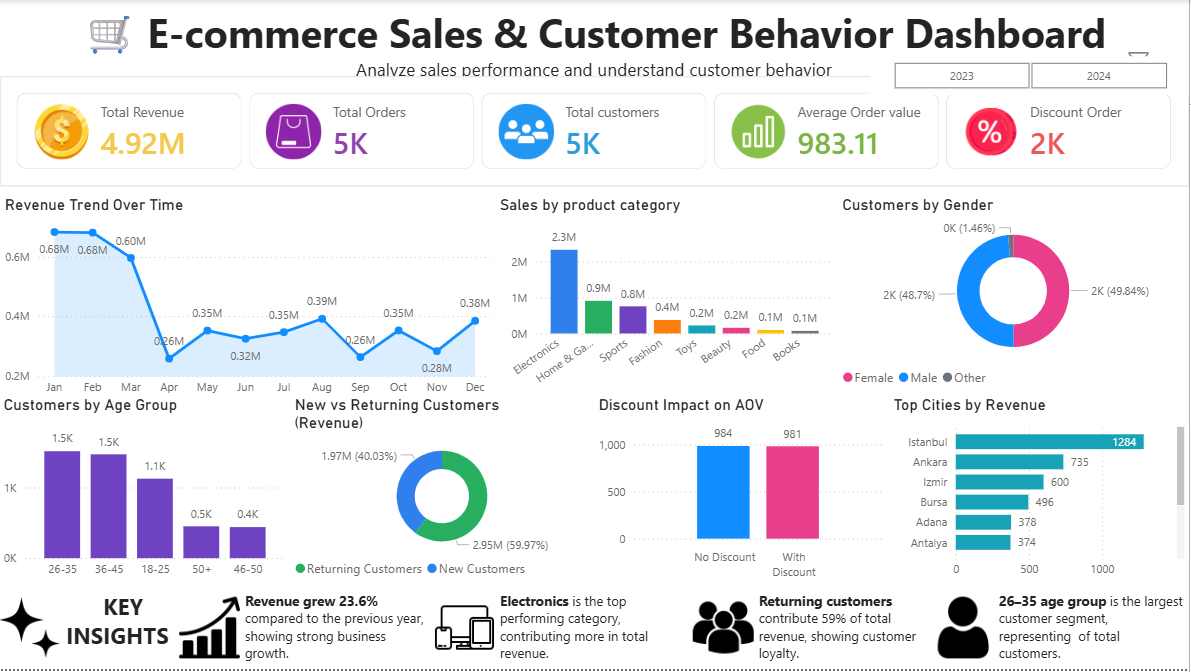

The page's visual inventory and layout, read from the dashboard file:
{"tool":"powerbi","page":{"name":"Page 1","canvas":[1280,720],"ordinal":0},"visuals":[{"type":"textbox","box":[0,0,1280.3,91.9],"z":0},{"type":"cardVisual","fields":{"Data":["Ecommerce KPIs.Total Revenue","Ecommerce KPIs.Total Orders","Ecommerce KPIs.Total customers","Ecommerce KPIs.Average Order value","Ecommerce KPIs.Orders with Discount"]},"box":[1.3,82,1278.9,118.3],"z":1000},{"type":"lineChart","title":"Revenue Trend Over Time","fields":{"Y":["Ecommerce KPIs.Total Revenue"],"Category":["ecommerce_customer_behavior_dataset.Month"]},"box":[1.3,209.8,532.6,224.6],"z":2000},{"type":"clusteredColumnChart","title":"Sales by product category","fields":{"Category":["ecommerce_customer_behavior_dataset.Product_Category"],"Y":["Ecommerce KPIs.Total Revenue"]},"box":[533.9,209.8,368.5,215.2],"z":3000},{"type":"donutChart","title":"Customers by Gender","fields":{"Series":["ecommerce_customer_behavior_dataset.Gender"],"Y":["Ecommerce KPIs.Total customers"]},"box":[902.4,209.8,377.9,215.2],"z":4000},{"type":"clusteredBarChart","title":"Top Cities by Revenue","fields":{"Category":["ecommerce_customer_behavior_dataset.City"],"Y":["Ecommerce KPIs.Total customers"]},"box":[957.5,425,322.8,205.8],"z":5000},{"type":"columnChart","title":"Discount Impact on AOV","fields":{"Y":["Ecommerce KPIs.Average Order value"],"Category":["ecommerce_customer_behavior_dataset.Discount Category"]},"box":[640.1,425,317.4,205.8],"z":6000},{"type":"donutChart","title":"New vs Returning Customers (Revenue)","fields":{"Y":["Ecommerce KPIs.Total Revenue"],"Category":["ecommerce_customer_behavior_dataset.Customer Type"]},"box":[313.3,425,326.8,205.8],"z":7000},{"type":"columnChart","title":"Customers by Age Group","fields":{"Y":["Ecommerce KPIs.Total customers"],"Category":["ecommerce_customer_behavior_dataset.Age Group"]},"box":[0,425,313.3,205.8],"z":8000},{"type":"textbox","box":[1.3,630.7,211.1,88.8],"z":9000},{"type":"textbox","box":[67.2,630.7,126.4,88.8],"z":10000},{"type":"image","box":[746.4,630.7,65.9,88.8],"z":11000},{"type":"image","box":[0,630.7,65.9,88.8],"z":12000},{"type":"image","box":[193.7,630.7,65.9,88.8],"z":13000},{"type":"image","box":[468,630.7,65.9,88.8],"z":14000},{"type":"image","box":[1004.6,630.7,65.9,88.8],"z":15000},{"type":"textbox","box":[259.6,630.7,208.4,88.8],"z":15001},{"type":"slicer","fields":{"Values":["ecommerce_customer_behavior_dataset.year"]},"box":[937.3,60.5,342.9,41.7],"z":15002},{"type":"textbox","box":[533.9,630.7,201.7,88.8],"z":15003},{"type":"textbox","box":[812.3,630.7,192.3,88.8],"z":15004},{"type":"textbox","box":[1070.5,630.7,209.8,88.8],"z":15005}]}

Visuals, with their boxes in screenshot pixels (x1, y1, x2, y2), scaled from the page's 1280x720 canvas onto the 1191x672 screenshot:
textbox: (x1=0, y1=0, x2=1190, y2=86)
cardVisual - Ecommerce KPIs.Total Revenue x Ecommerce KPIs.Total Orders: (x1=1, y1=77, x2=1190, y2=187)
"Revenue Trend Over Time" lineChart: (x1=1, y1=196, x2=497, y2=405)
"Sales by product category" clusteredColumnChart: (x1=497, y1=196, x2=840, y2=397)
"Customers by Gender" donutChart: (x1=840, y1=196, x2=1190, y2=397)
"Top Cities by Revenue" clusteredBarChart: (x1=891, y1=397, x2=1190, y2=589)
"Discount Impact on AOV" columnChart: (x1=596, y1=397, x2=891, y2=589)
"New vs Returning Customers (Revenue)" donutChart: (x1=292, y1=397, x2=596, y2=589)
"Customers by Age Group" columnChart: (x1=0, y1=397, x2=292, y2=589)
textbox: (x1=1, y1=589, x2=198, y2=671)
textbox: (x1=63, y1=589, x2=180, y2=671)
image: (x1=695, y1=589, x2=756, y2=671)
image: (x1=0, y1=589, x2=61, y2=671)
image: (x1=180, y1=589, x2=242, y2=671)
image: (x1=435, y1=589, x2=497, y2=671)
image: (x1=935, y1=589, x2=996, y2=671)
textbox: (x1=242, y1=589, x2=435, y2=671)
slicer - ecommerce_customer_behavior_dataset.year: (x1=872, y1=56, x2=1190, y2=95)
textbox: (x1=497, y1=589, x2=684, y2=671)
textbox: (x1=756, y1=589, x2=935, y2=671)
textbox: (x1=996, y1=589, x2=1190, y2=671)
